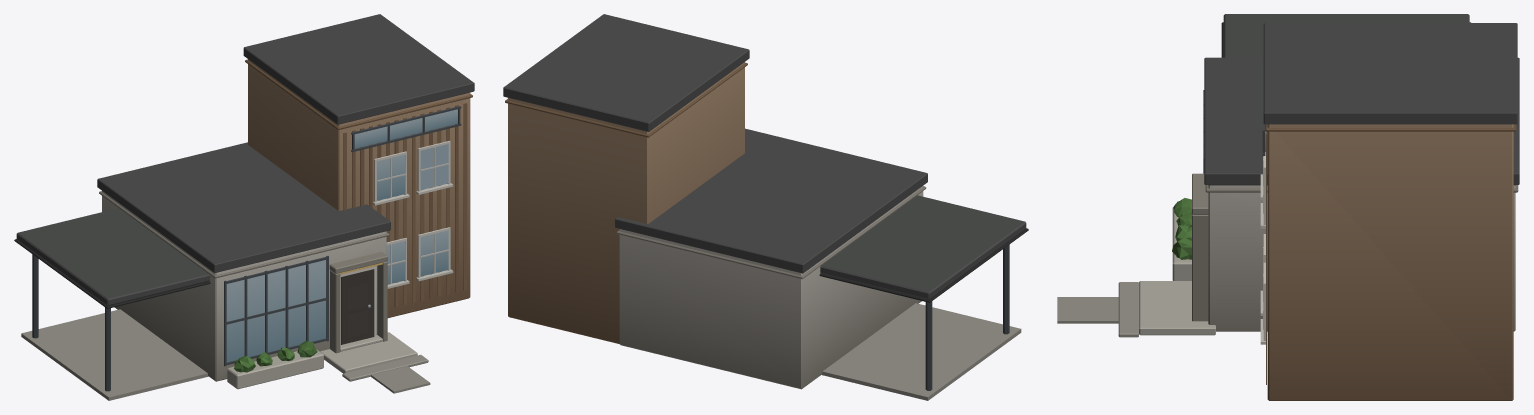
Rendered from modern_house.glb.
3 views of the same model, side by side, from view 1: azimuth 30°, elevation 25°; view 2: azimuth 150°, elevation 25°; view 3: azimuth 270°, elevation 25° (orthographic). The views are drawn at different scales.
Visible parts, largest first — view 1: modern_house; view 2: modern_house; view 3: modern_house.
Boxes of the visible parts, x1,y1,x2,y2 form: modern_house: [14, 14, 474, 400]; modern_house: [503, 14, 1028, 400]; modern_house: [1057, 14, 1519, 400].
Bounding box in the file's own units: 11.62 × 6.26 × 9.03.
